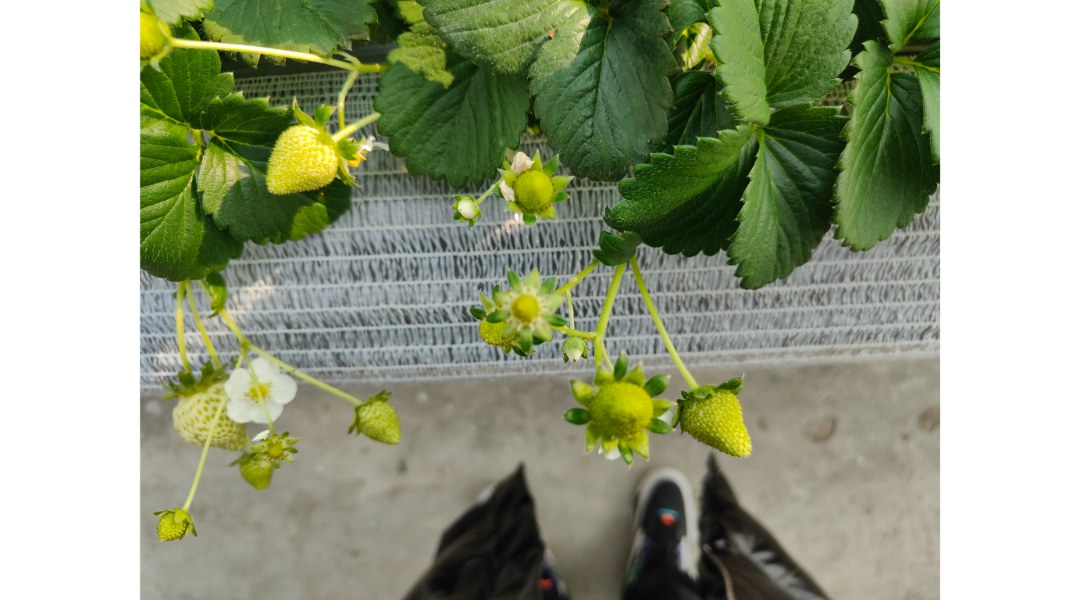berry: (571, 351, 671, 472), (153, 354, 250, 461), (247, 106, 338, 210), (473, 266, 571, 358), (498, 136, 576, 239), (673, 374, 761, 463), (342, 387, 405, 457), (256, 421, 305, 503), (142, 499, 204, 558), (447, 183, 489, 235), (236, 446, 278, 493)
flower: (218, 350, 308, 426)
strain: (627, 267, 702, 393), (173, 28, 343, 70), (265, 351, 367, 414), (207, 280, 255, 340), (596, 269, 622, 330), (168, 291, 186, 356)
